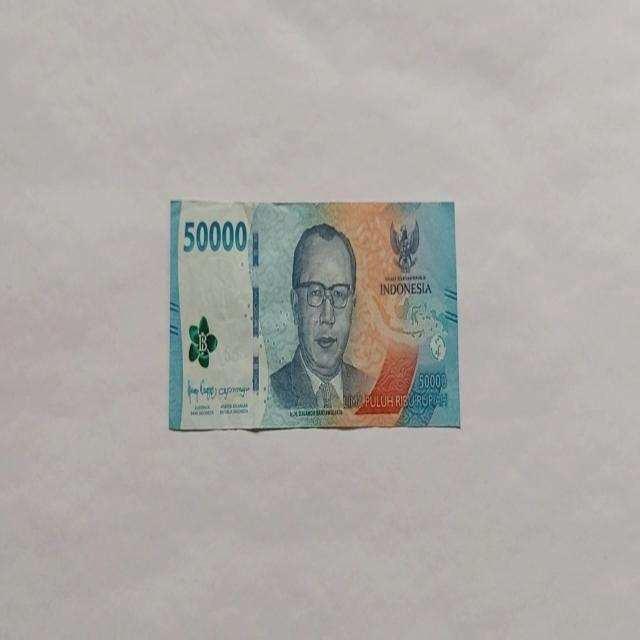lima puluh ribu rupiah: (168, 197, 460, 433), (262, 222, 376, 420)
